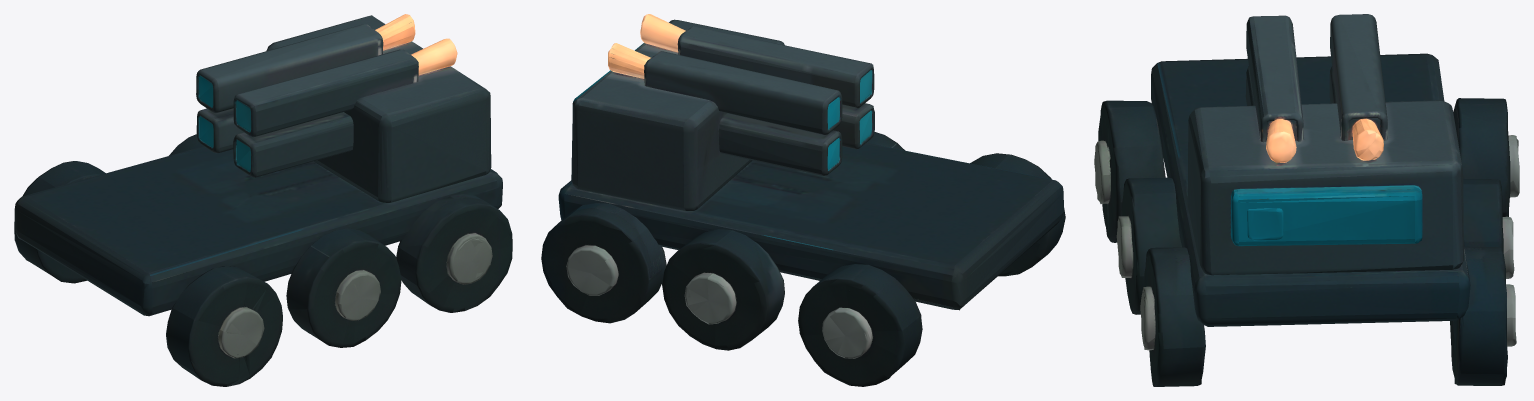
The model's file is missile-truck.glb.
3 views of the same model, side by side, from view 1: azimuth 30°, elevation 25°; view 2: azimuth 150°, elevation 25°; view 3: azimuth 270°, elevation 25° (orthographic). The views are drawn at different scales.
Size of the model in its own units: 1 by 0.5469 by 0.7773.
1 material, 1 textured.
